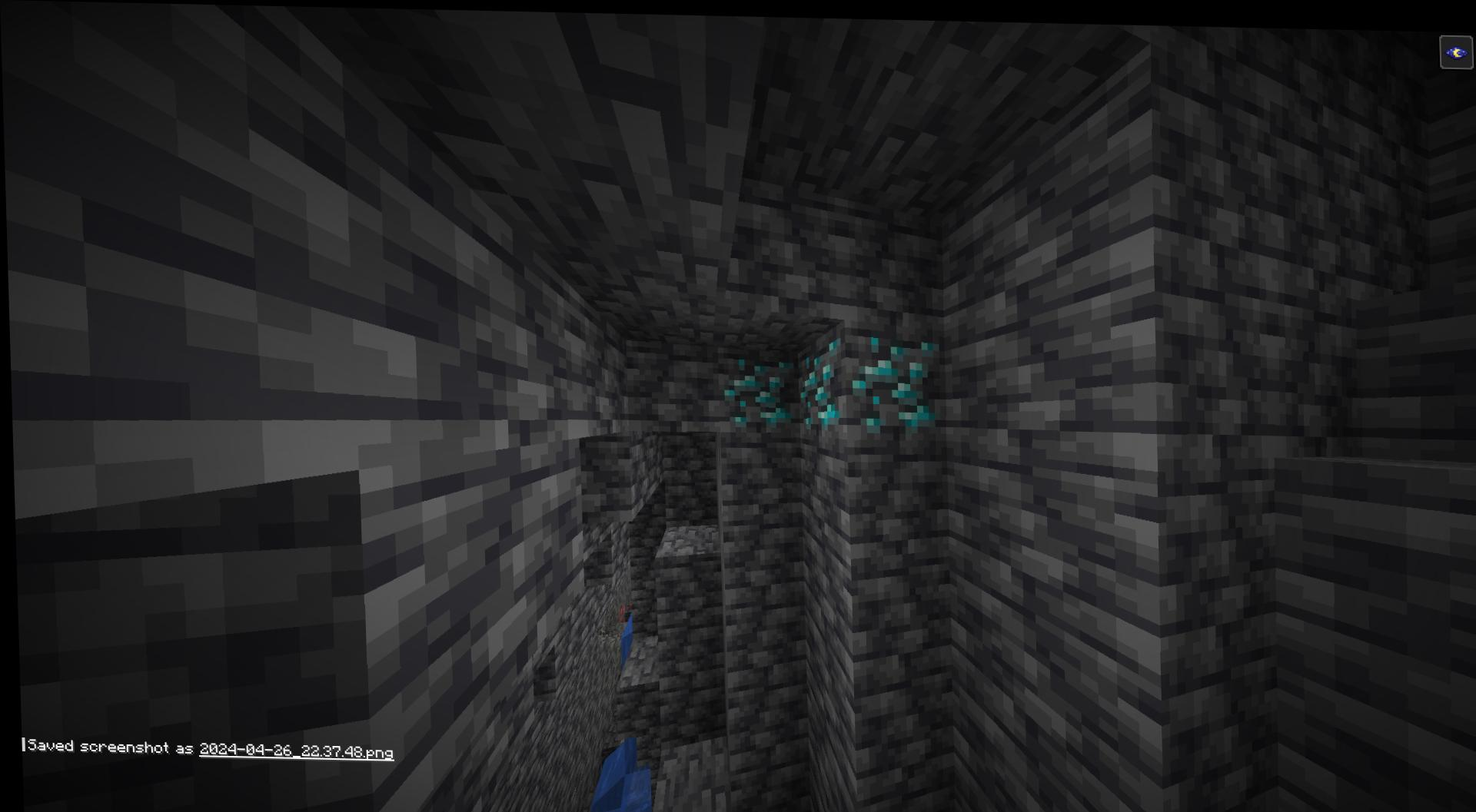diamond ore: (850, 330, 948, 433), (715, 344, 802, 432), (795, 340, 849, 428)
redstone ore: (612, 599, 631, 618)
